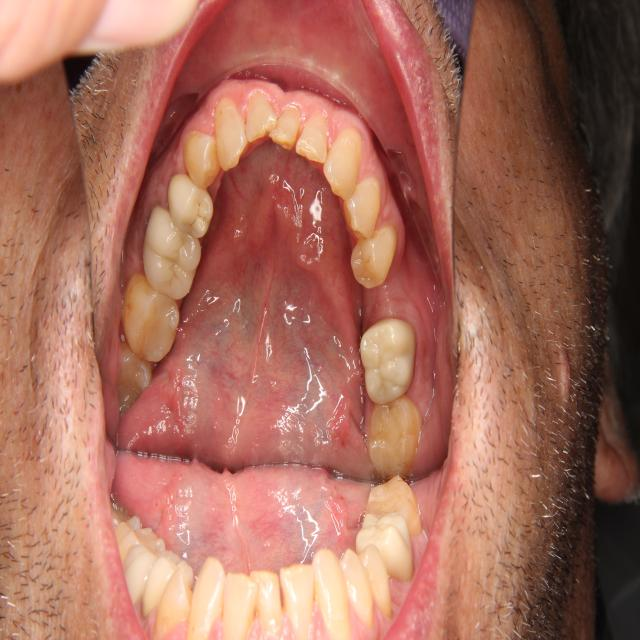tooth: (141, 198, 207, 304), (117, 267, 182, 363), (358, 315, 420, 407), (364, 392, 428, 480), (320, 121, 370, 201), (165, 167, 220, 239), (112, 339, 157, 423), (212, 94, 255, 176), (349, 223, 398, 291), (339, 173, 385, 241), (181, 128, 223, 191), (293, 109, 333, 169), (244, 89, 280, 150), (267, 103, 304, 154)
